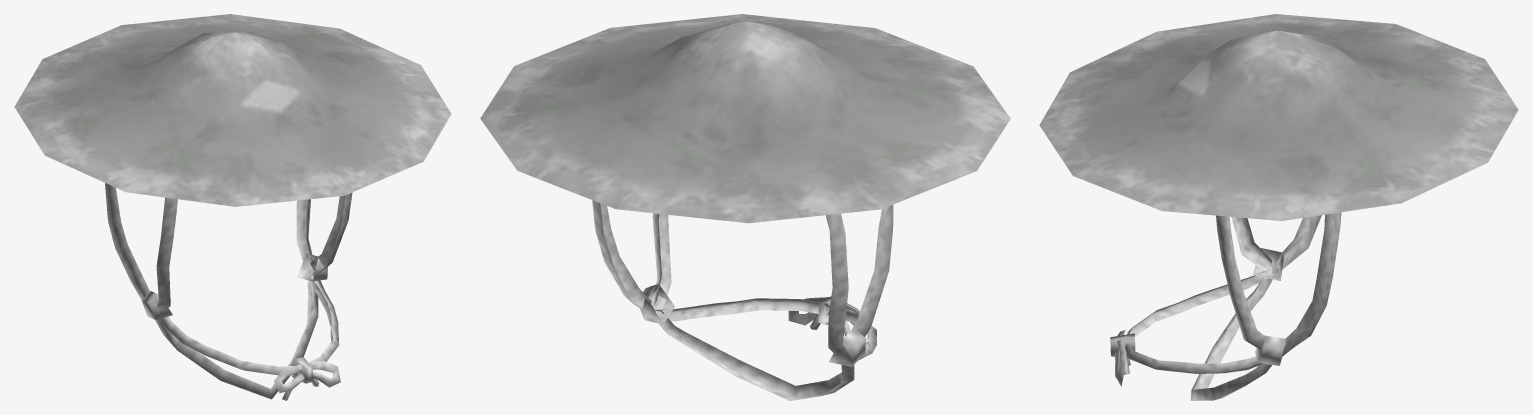
The model's file is helmet-mediumguardhousesoldiers.glb.
3 renders of one model, left to right at view 1: azimuth 30°, elevation 25°; view 2: azimuth 150°, elevation 25°; view 3: azimuth 270°, elevation 25°, orthographic. The views are drawn at different scales.
Size of the model in its own units: 0.3823 by 0.3258 by 0.382.
1 material, 1 textured.
